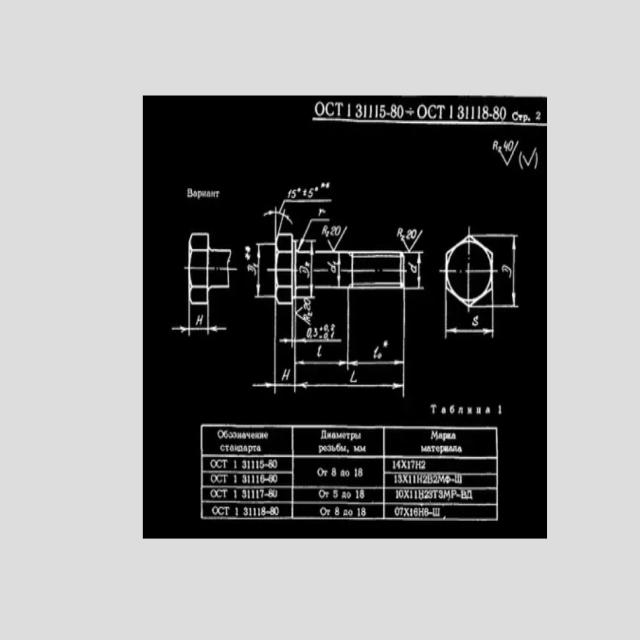marking_line: (252, 306, 406, 405), (290, 305, 405, 398), (345, 290, 407, 371), (281, 305, 350, 372), (281, 304, 343, 348), (494, 234, 518, 312), (171, 305, 228, 336), (442, 308, 494, 340), (255, 242, 275, 299), (299, 217, 330, 249), (198, 305, 227, 336), (279, 198, 334, 213), (171, 305, 198, 335), (261, 208, 293, 232), (405, 251, 424, 291), (335, 254, 342, 287)
numeric: (501, 264, 512, 278), (373, 345, 382, 360), (354, 104, 363, 119), (282, 367, 291, 381), (327, 261, 336, 275), (408, 262, 417, 276), (457, 105, 465, 120), (500, 106, 507, 122), (247, 264, 256, 276), (492, 106, 499, 121), (350, 370, 357, 384), (316, 344, 323, 358), (305, 326, 312, 339), (483, 106, 489, 121), (380, 104, 386, 118), (330, 323, 335, 339), (391, 102, 396, 118), (308, 187, 315, 198), (449, 104, 454, 119), (318, 209, 326, 218), (508, 139, 514, 151), (492, 139, 498, 151), (471, 104, 475, 121), (286, 188, 292, 199), (336, 225, 342, 236), (241, 459, 247, 470), (398, 106, 403, 119), (291, 189, 297, 199), (411, 229, 417, 239), (472, 316, 478, 326), (331, 467, 337, 477), (333, 489, 339, 499), (322, 324, 329, 332), (477, 106, 481, 120), (347, 104, 351, 118), (369, 104, 373, 118), (269, 489, 275, 498), (313, 327, 319, 336), (465, 106, 469, 119), (330, 226, 335, 236), (260, 459, 265, 469), (242, 474, 247, 484), (242, 489, 247, 499), (243, 506, 248, 516), (261, 506, 266, 516), (260, 474, 265, 484), (335, 507, 340, 517), (361, 507, 366, 517), (358, 467, 363, 477), (433, 474, 438, 484), (536, 111, 541, 121), (397, 228, 402, 237), (273, 459, 278, 468), (273, 474, 278, 483), (274, 506, 279, 515), (428, 490, 433, 499), (364, 104, 367, 119), (375, 103, 378, 118), (504, 140, 508, 151), (234, 506, 238, 517), (247, 489, 251, 500), (411, 459, 415, 470), (407, 230, 411, 240), (234, 474, 238, 484), (234, 490, 238, 500), (269, 474, 273, 484), (253, 507, 257, 517), (251, 489, 255, 499), (360, 490, 365, 498), (355, 489, 359, 499), (396, 459, 400, 469), (398, 474, 402, 484), (439, 490, 444, 498), (271, 506, 275, 515), (257, 507, 261, 516), (255, 490, 259, 499), (260, 489, 264, 498), (421, 460, 425, 469), (423, 475, 427, 484), (399, 490, 403, 499), (425, 490, 429, 499), (414, 508, 418, 517), (498, 405, 502, 414), (323, 333, 328, 340), (269, 460, 273, 468), (249, 506, 252, 516), (252, 474, 255, 484), (407, 460, 410, 470), (410, 507, 413, 517), (234, 460, 237, 469), (274, 489, 277, 498), (252, 460, 255, 469), (248, 461, 251, 470), (256, 475, 259, 484), (357, 507, 360, 516), (392, 460, 395, 469), (394, 475, 397, 484), (396, 490, 399, 499), (410, 490, 413, 499), (414, 490, 417, 499), (425, 508, 428, 517), (256, 460, 259, 468), (248, 474, 250, 484), (355, 468, 357, 477)
special_symbol: (498, 141, 519, 167), (327, 226, 348, 251), (401, 230, 423, 252), (297, 304, 311, 326), (523, 147, 537, 166), (534, 153, 539, 170), (519, 151, 523, 170), (320, 182, 326, 188), (303, 188, 307, 196), (326, 182, 330, 188), (297, 187, 301, 192), (315, 186, 318, 192)
